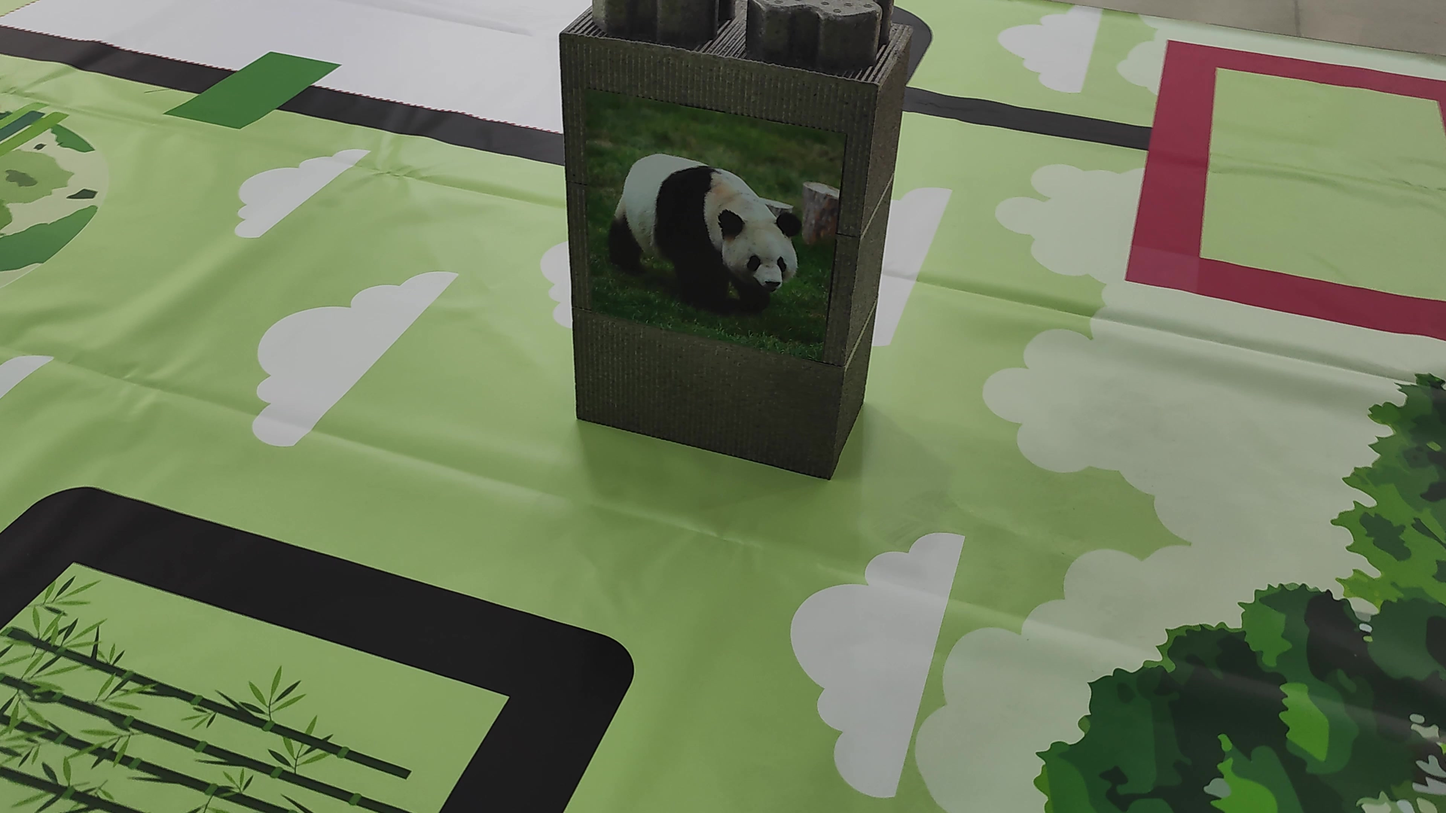panda: (599, 125, 840, 334)
